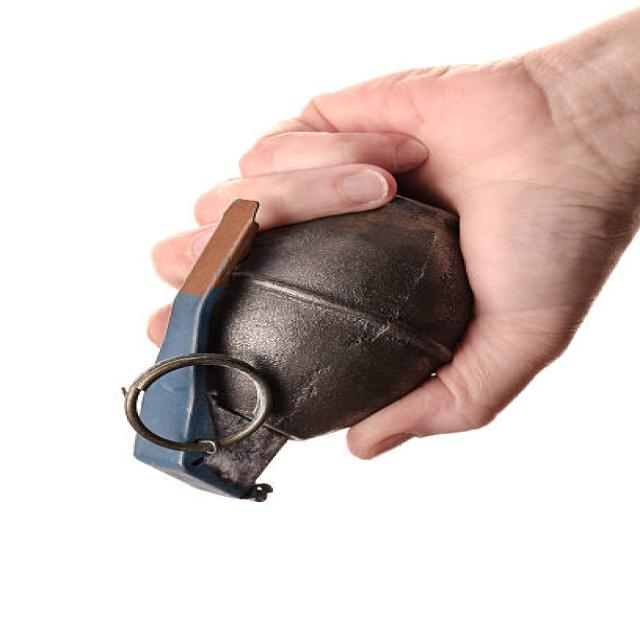grenade: (111, 194, 479, 514)
